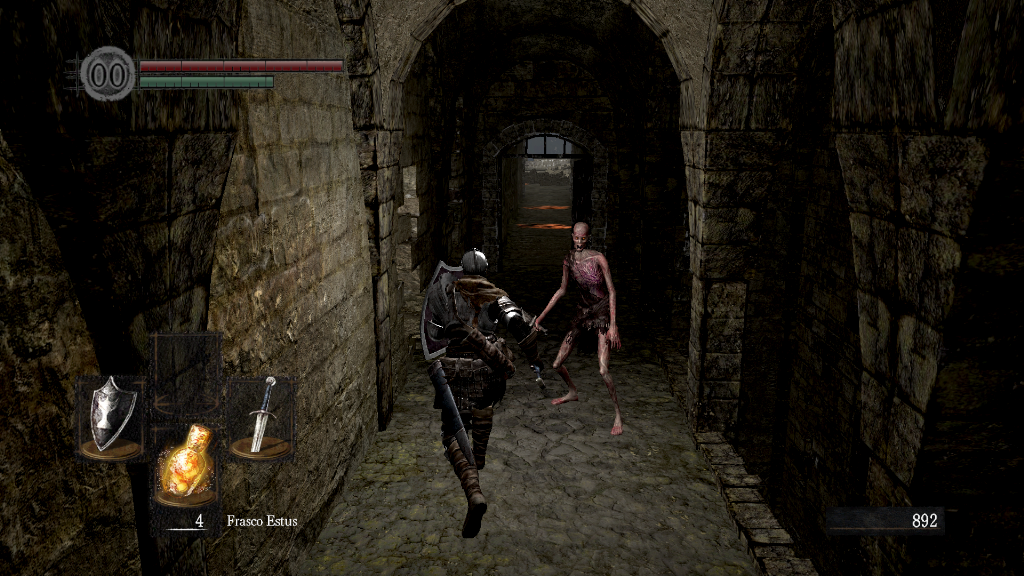health: (138, 58, 343, 71)
hollow: (532, 220, 628, 438)
humanity: (80, 45, 136, 102)
player: (415, 249, 550, 537)
souls: (825, 506, 945, 536)
stamina: (138, 74, 274, 88)
